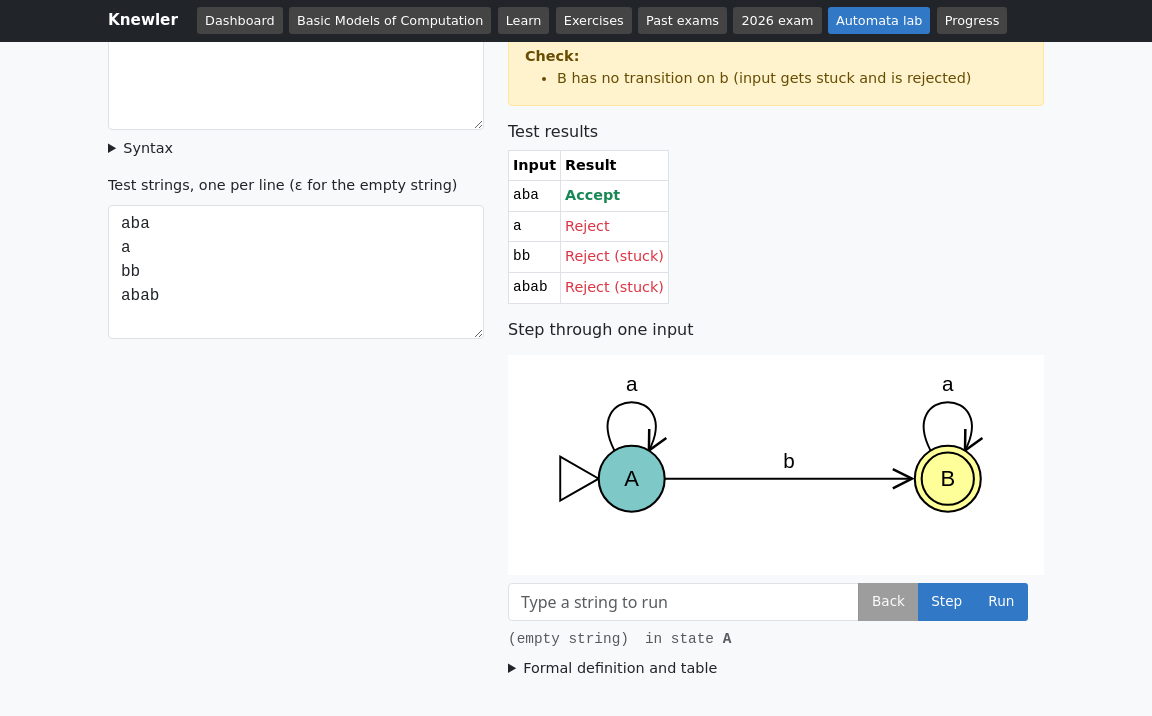
Scenario: Automata lab › steps through an input and reports the verdict
(page scrolled)
Type "ab" into the field named "Input string" at (684, 602), box [508,583,859,621]
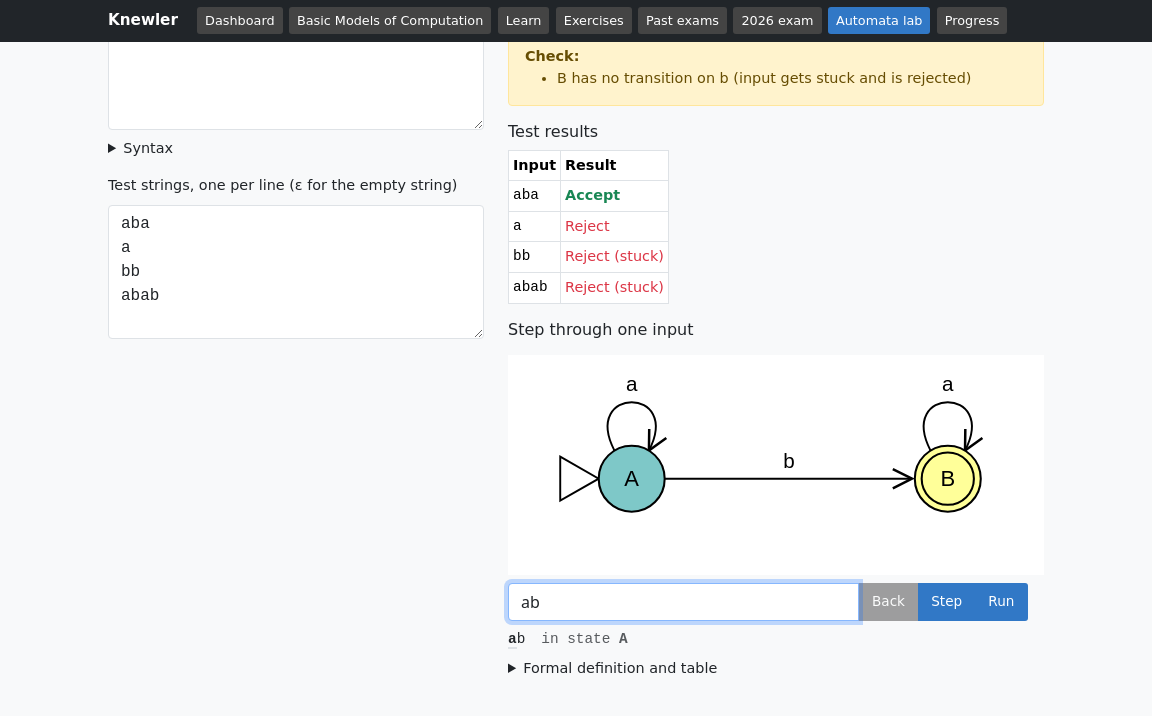
Click the button "Step" at (947, 602), box [918,583,976,621]
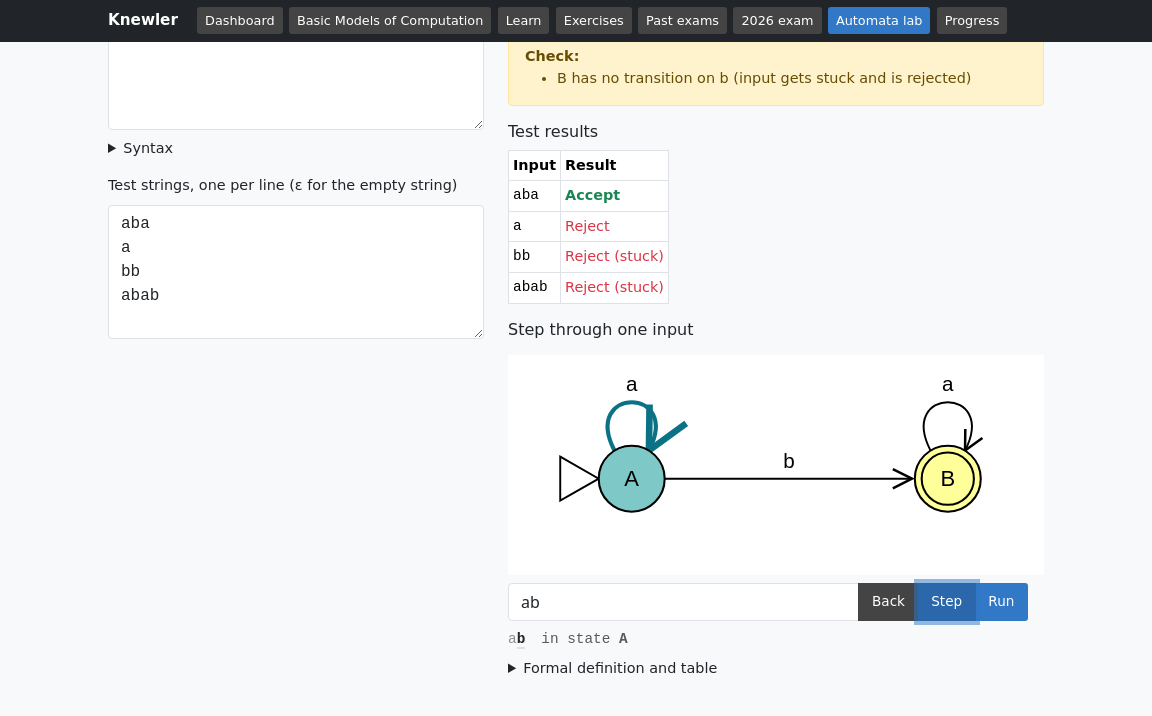
Click the button "Step" at (947, 602), box [918,583,976,621]
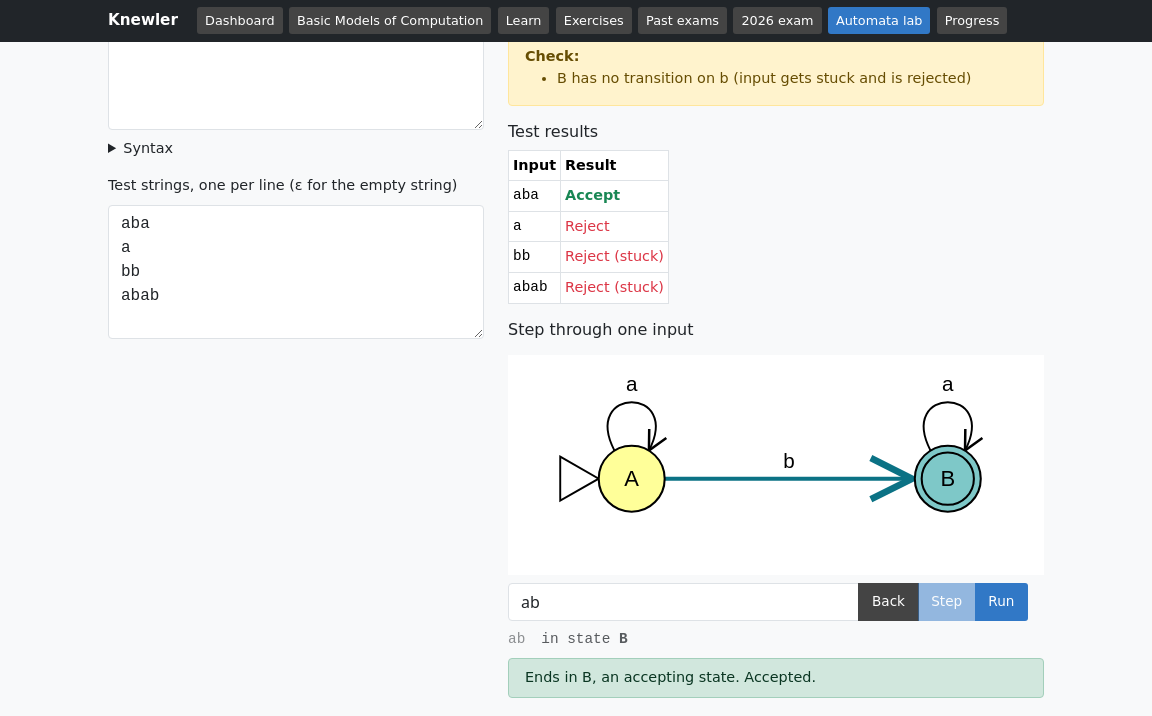
Expected: the text "Ends in B, an accepting state. Accepted." is shown, [508,658,1044,698]
